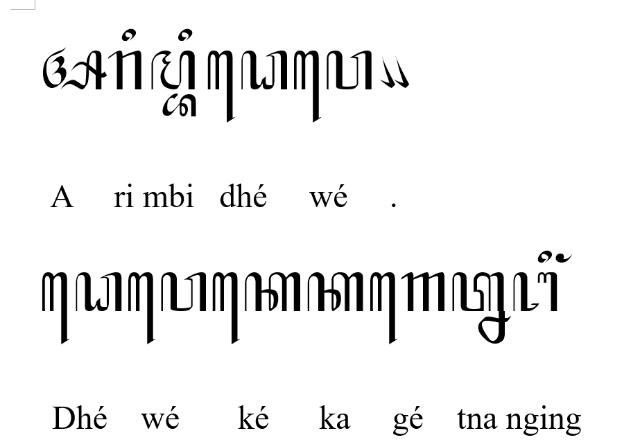A: (42, 47, 108, 90)
_b: (162, 93, 196, 117)
dh: (240, 50, 288, 90), (76, 272, 122, 312)
e1: (212, 270, 240, 346), (294, 50, 322, 124), (128, 272, 156, 346), (369, 271, 397, 345), (42, 271, 70, 344), (207, 50, 235, 122)
g: (402, 273, 446, 313)
i: (122, 28, 136, 42), (178, 28, 192, 42), (538, 251, 552, 264)
k: (244, 272, 302, 312), (308, 271, 364, 311)
kom: (393, 56, 409, 88), (380, 57, 394, 88)
m: (150, 49, 196, 90)
ng: (554, 253, 572, 263)
nga: (512, 272, 558, 312)
r: (108, 50, 142, 90)
tn: (452, 271, 512, 344)
w: (160, 272, 208, 312), (326, 50, 372, 90)
